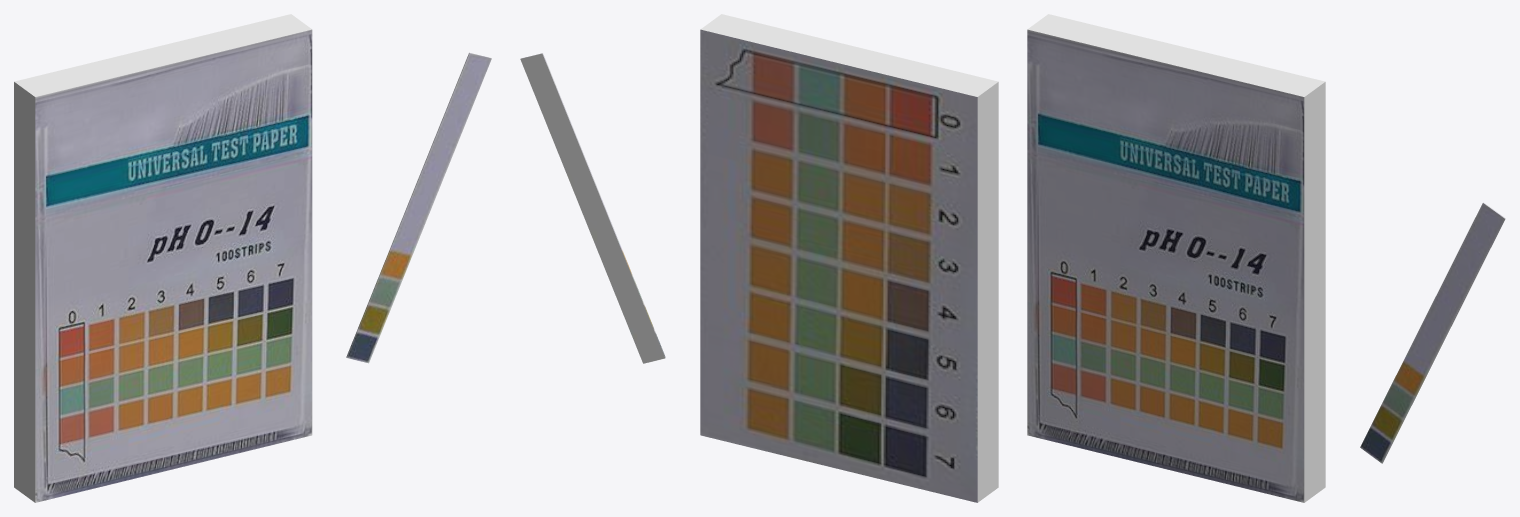
Rendered from Indikator_Universal.fbx.
3 views of the same model, side by side, from view 1: azimuth 30°, elevation 25°; view 2: azimuth 150°, elevation 25°; view 3: azimuth 330°, elevation 25° (orthographic).
Parts seen in each view (by area): view 1: Plane, Plane.001; view 2: Plane, Plane.001; view 3: Plane, Plane.001.
Boxes of the visible parts, bbox=[...] form: Plane: bbox=[14, 14, 312, 502]; Plane.001: bbox=[346, 52, 491, 363]; Plane: bbox=[700, 14, 998, 502]; Plane.001: bbox=[520, 53, 665, 363]; Plane: bbox=[1027, 14, 1325, 502]; Plane.001: bbox=[1360, 202, 1505, 463].
Bounding box in the file's own units: 426 × 353 × 33.43.
